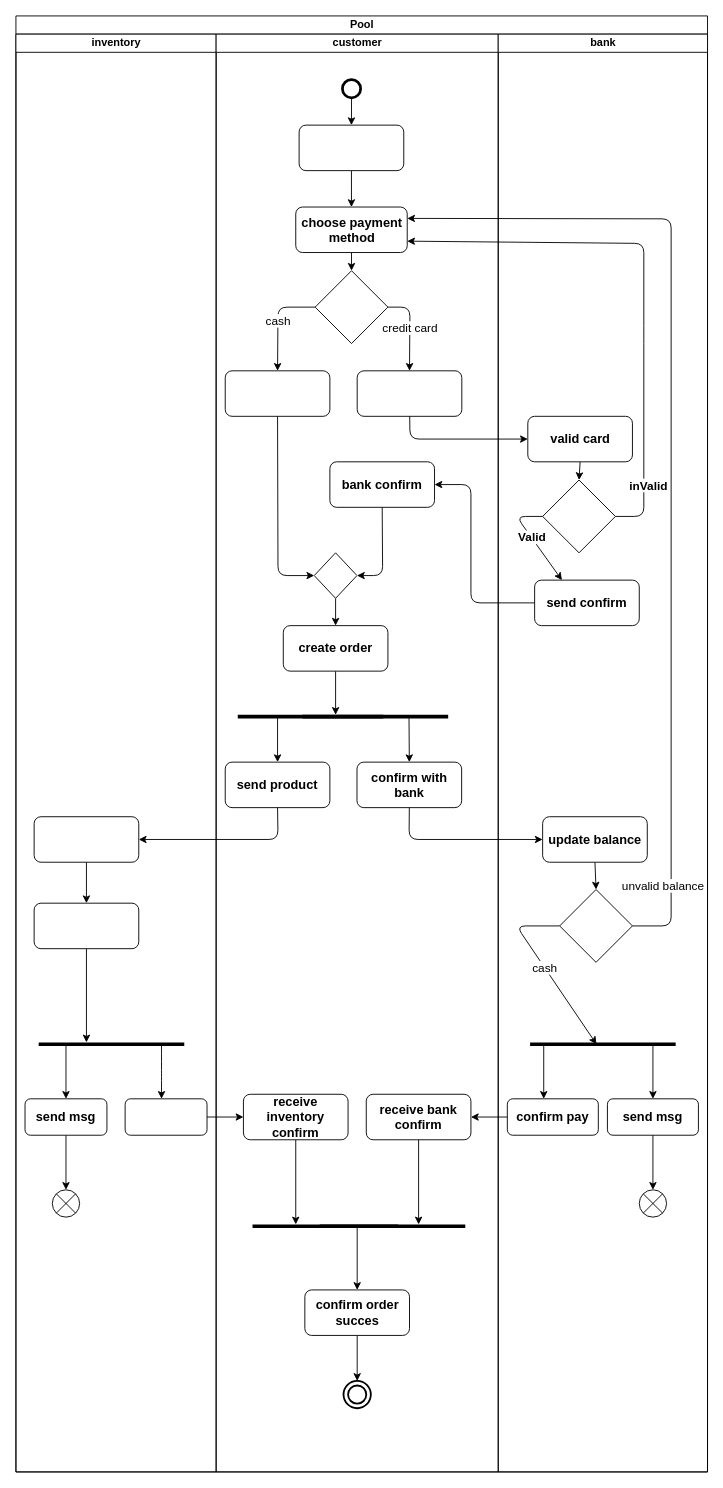
This 723x1488 diagram has some shape labels left out. The centre of each missing label's shape, as x and y in pixels:
check balance: point (595, 925)
Check Card validation: point (578, 516)
collect card details: point (409, 393)
collect delivary details: point (277, 393)
confirm delivary: point (165, 1116)
deploy delivary: point (86, 925)
pay method: point (351, 307)
Place Order: point (351, 147)
update inventory: point (86, 839)
